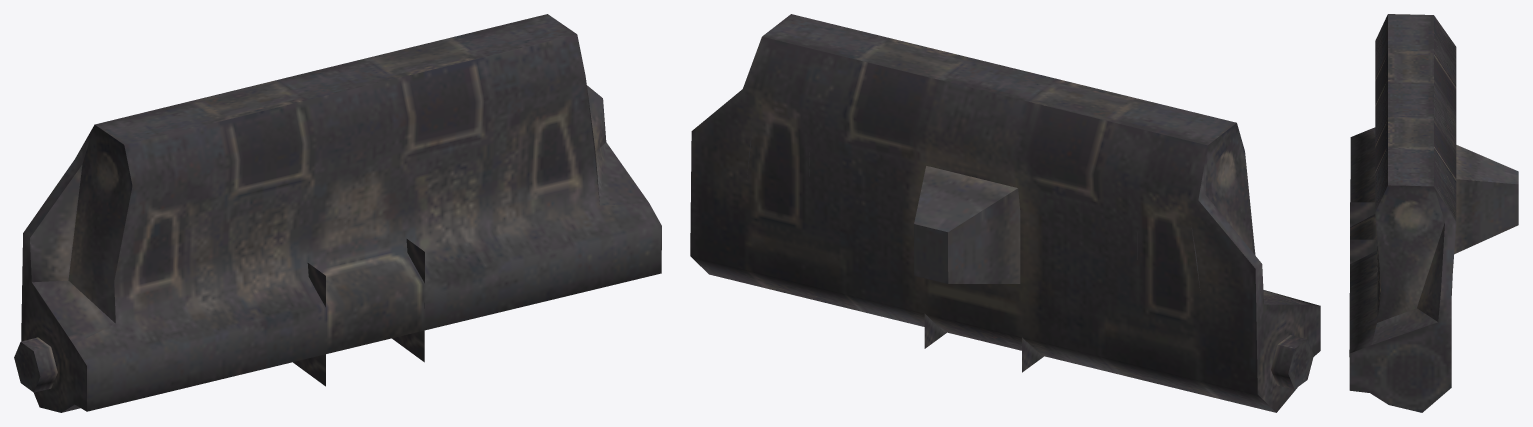
3 renders of one model, left to right at view 1: azimuth 30°, elevation 25°; view 2: azimuth 150°, elevation 25°; view 3: azimuth 270°, elevation 25°, orthographic. The views are drawn at different scales.
Parts seen in each view (by area): view 1: set_0_group_0; view 2: set_0_group_0; view 3: set_0_group_0.
Part boxes in pixels (<box>): set_0_group_0: <box>14,14,661,412</box>; set_0_group_0: <box>690,14,1320,412</box>; set_0_group_0: <box>1349,14,1518,412</box>.
Bounding box in the file's own units: 0.4 × 0.1715 × 0.1268.
1 material, 1 textured.
